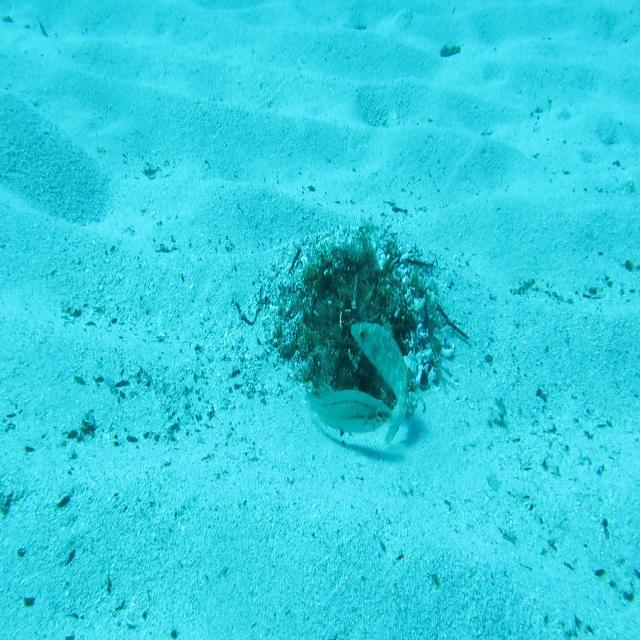DAN_CIRC: (349, 314, 413, 448)
core_nest: (326, 260, 376, 309)
female: (302, 382, 394, 438)
nest: (249, 207, 460, 443)
vegetation: (439, 41, 462, 60)
